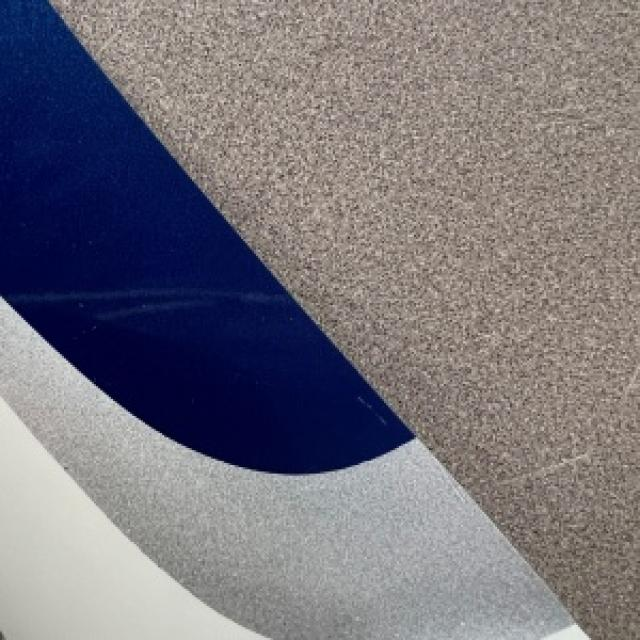healthy: (132, 512, 267, 612)
